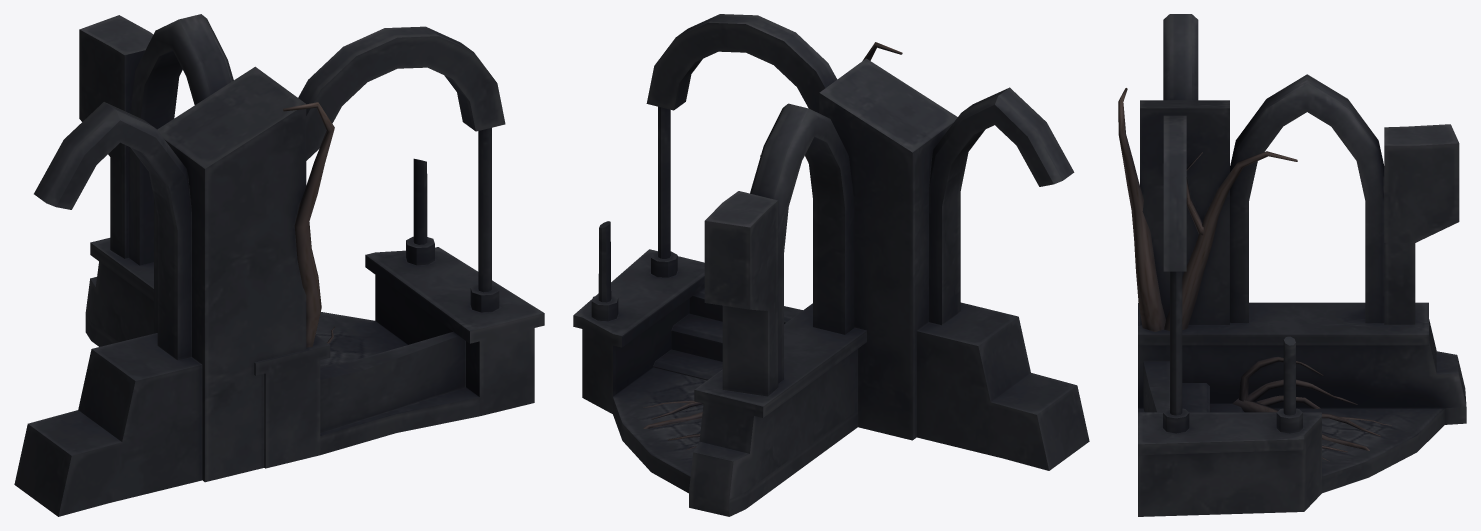
Rendered from Ruins1.FBX.
3 renders of one model, left to right at view 1: azimuth 30°, elevation 25°; view 2: azimuth 150°, elevation 25°; view 3: azimuth 270°, elevation 25°, orthographic. The views are drawn at different scales.
Parts seen in each view (by area): view 1: Ruins1; view 2: Ruins1; view 3: Ruins1.
Boxes of the visible parts, box(x1,y1,x2,y2) form: Ruins1: box(14, 14, 544, 516); Ruins1: box(573, 14, 1089, 516); Ruins1: box(1118, 14, 1466, 516).
Size of the model in its own units: 1518 by 1215 by 1078.
1 material, 1 textured.
